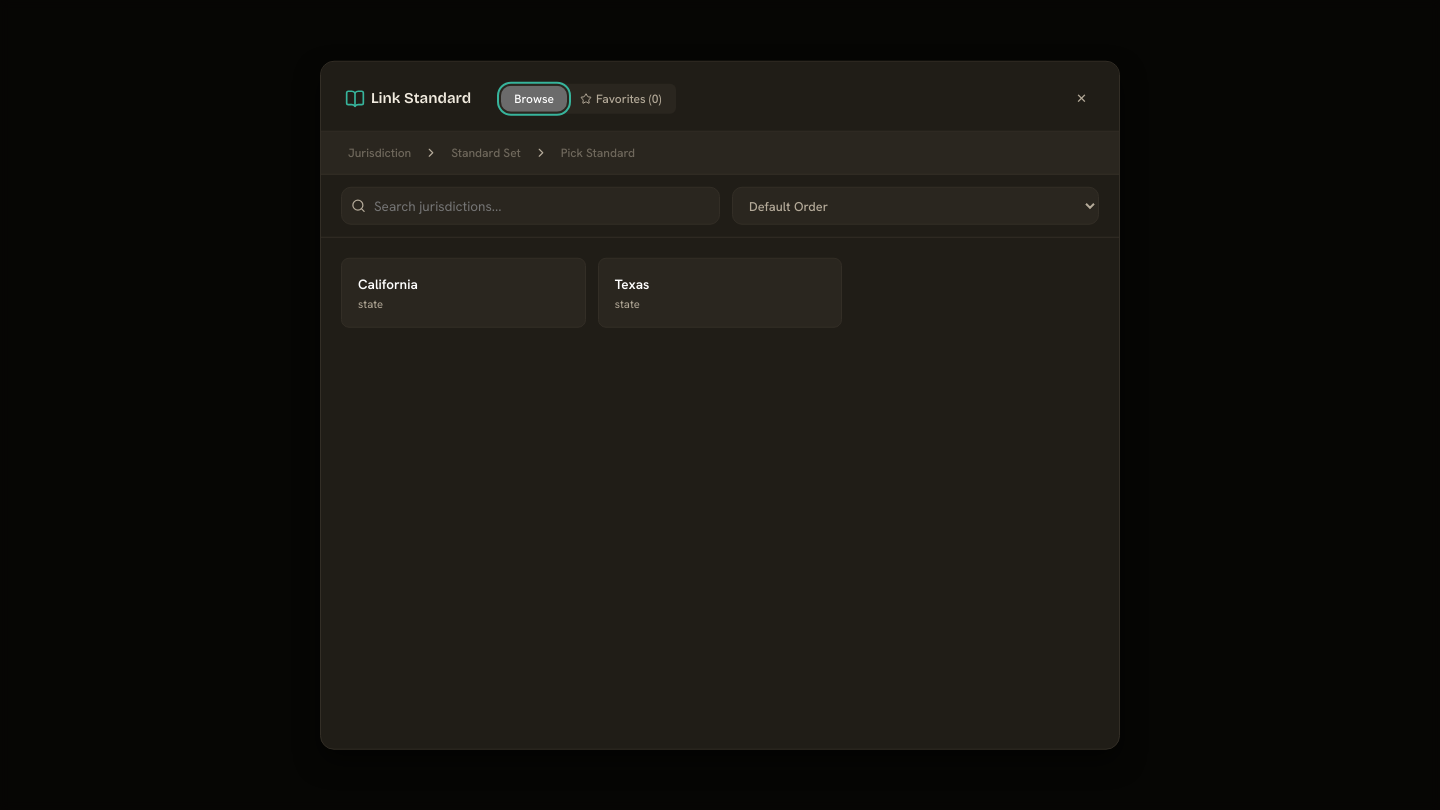
Scenario: StandardsPickerModal › filters jurisdictions, sets, and standards via the search box
This screenshot has width=1440, height=810.
Click the text "California" at x=388, y=284, box [358, 275, 418, 293]
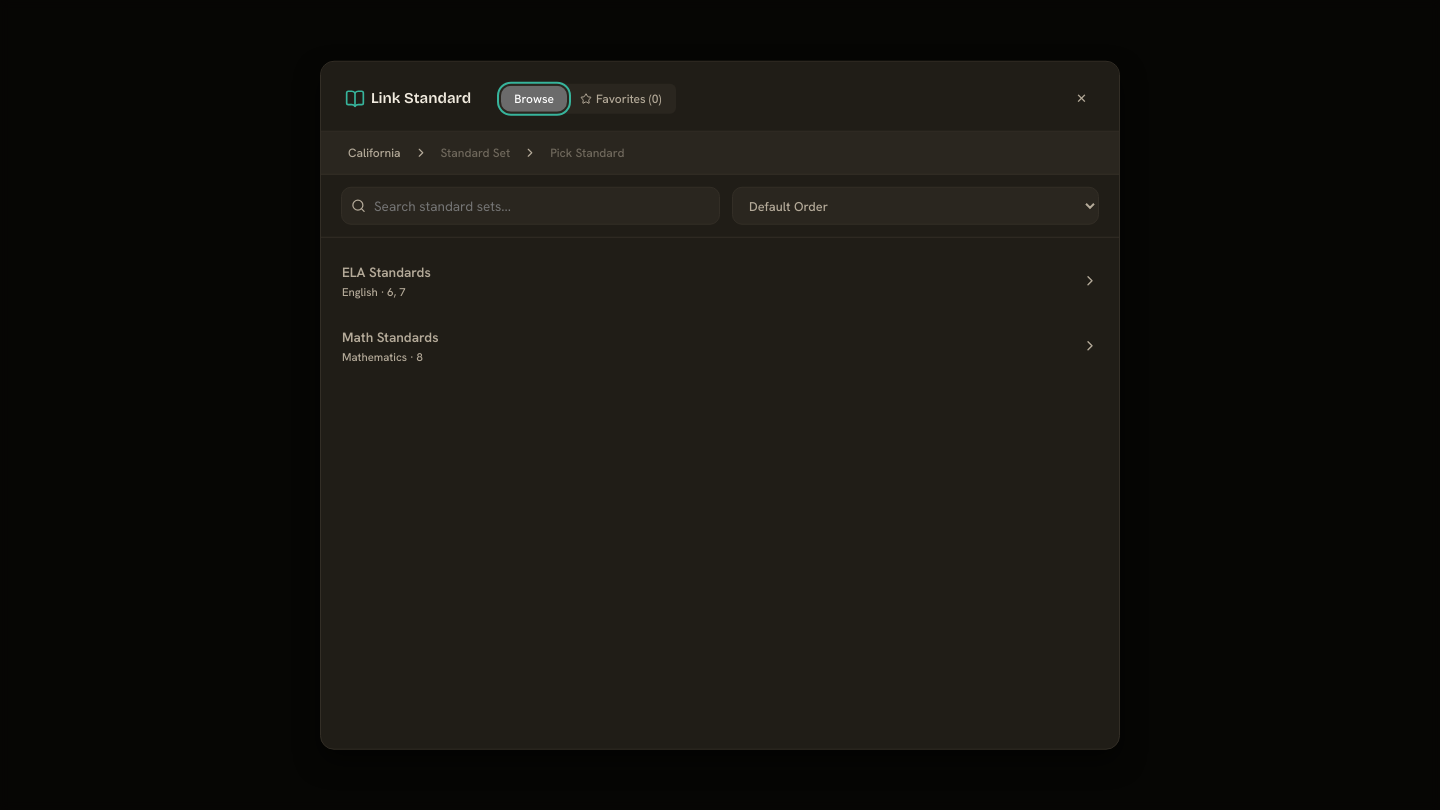
Expected: the text "ELA Standards" is shown
Click the text "ELA Standards" at x=386, y=272, box [342, 263, 431, 281]
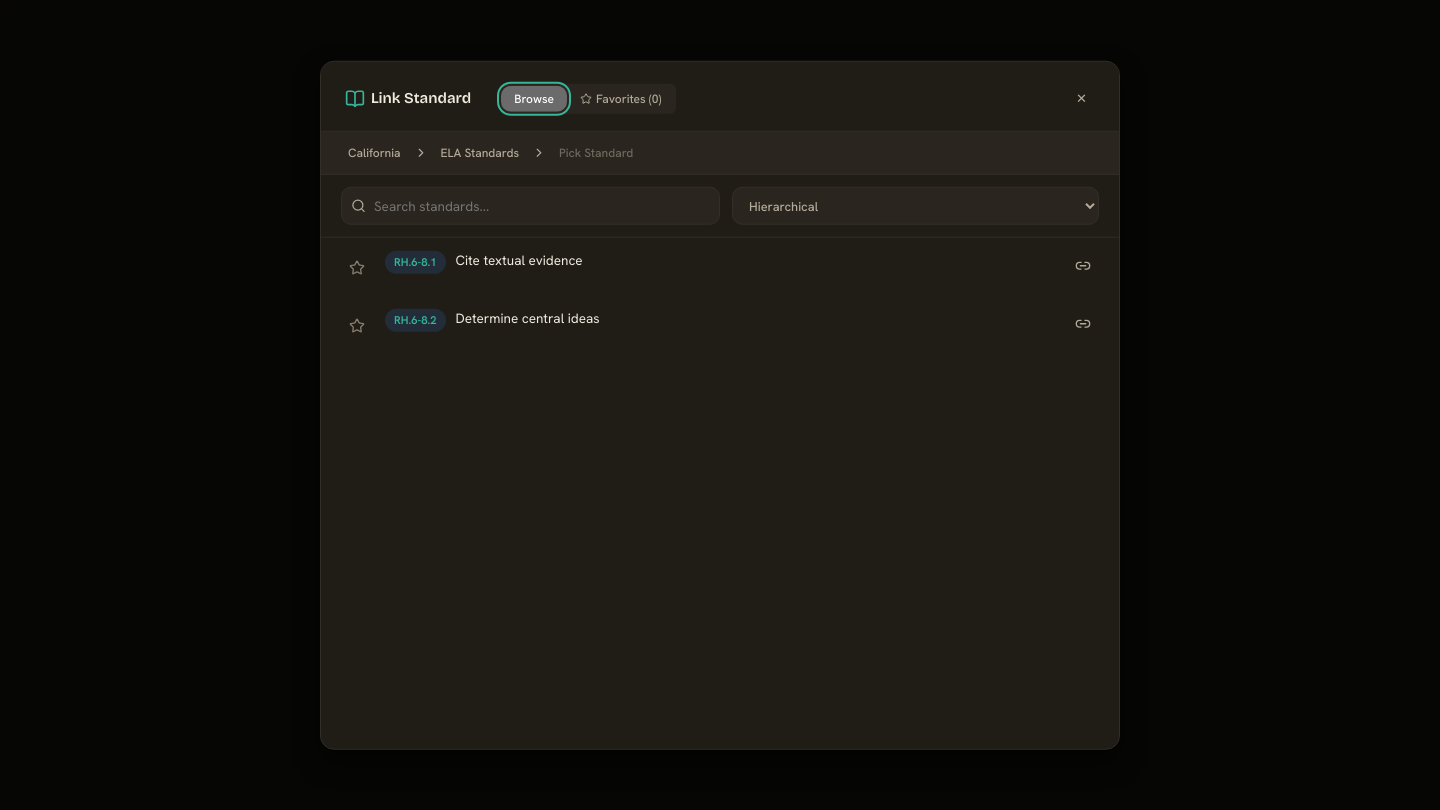
Expected: the text "Cite textual evidence" is shown, [456, 250, 583, 270]
Type "central" into the field with placeholder "Search standards..." at x=530, y=206, box [341, 187, 720, 225]
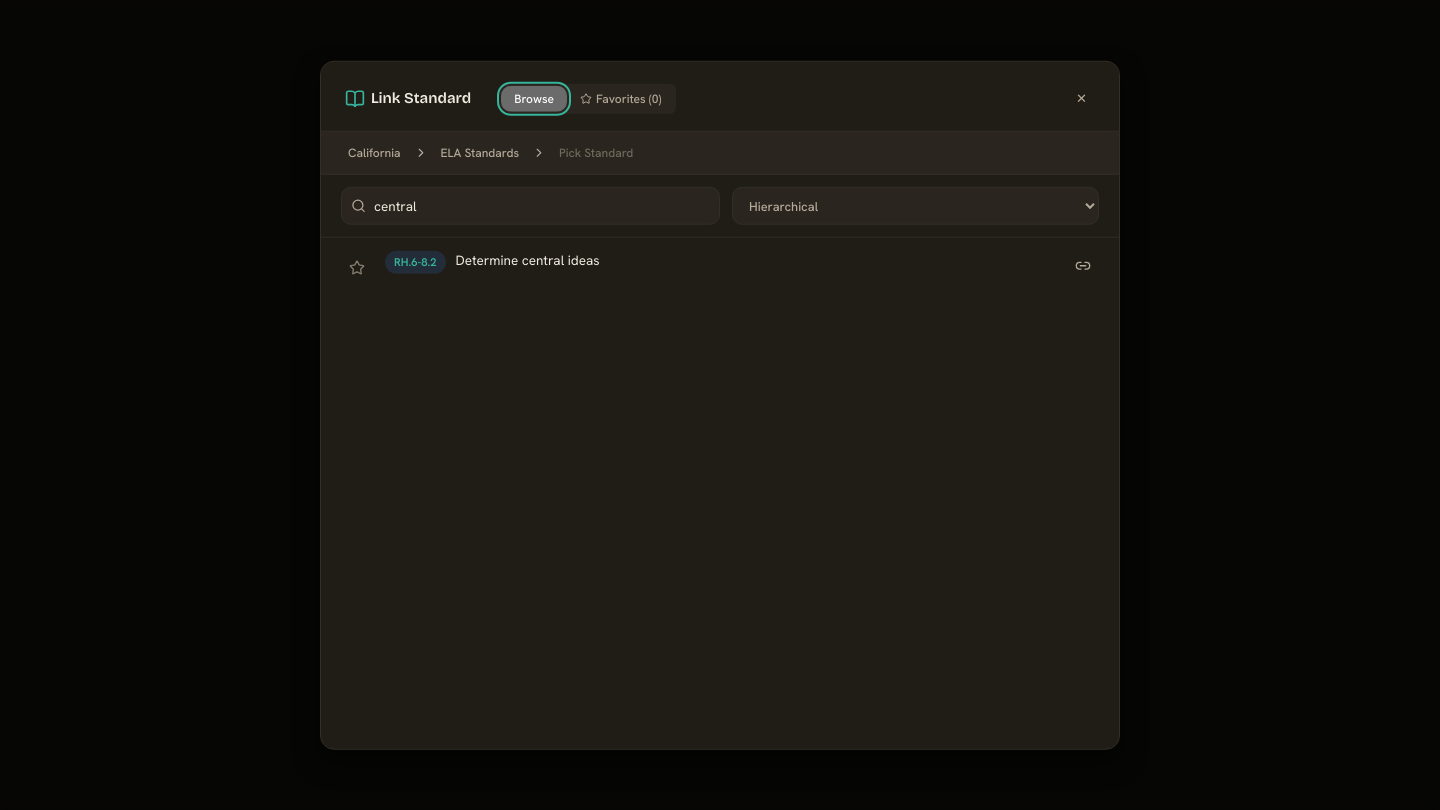
Expected: the text "Determine central ideas" is shown, [456, 250, 600, 270]
Expected: the text "Cite textual evidence" is gone
